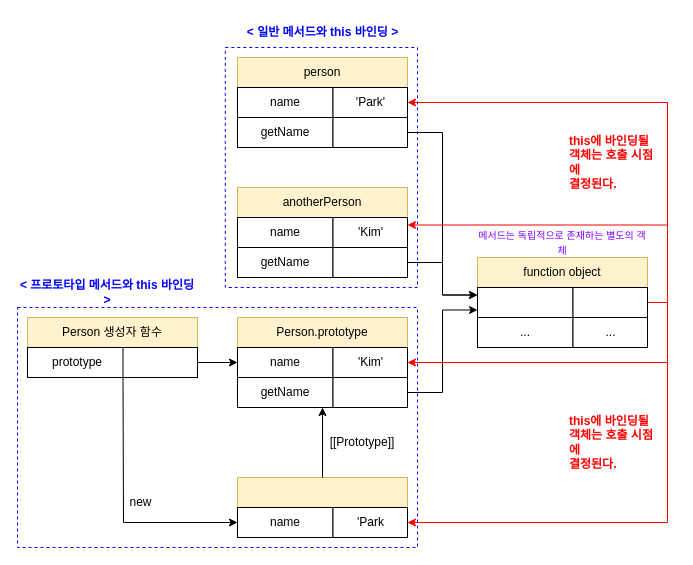
Some shapes in this 693 by 565 pixel diagram are drawn without their labels. The shapes that lost their labels are listed below. From the top down, each one's centre as x and y in pixels, then its label:
[524,302]: this
[322,492]: me
